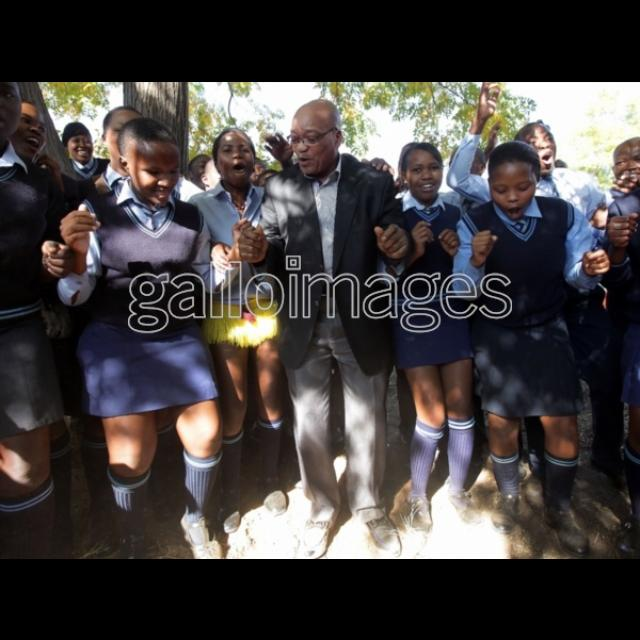head: (118, 116, 182, 208), (486, 139, 544, 223), (290, 98, 344, 176), (2, 98, 50, 166), (102, 104, 150, 168), (515, 119, 561, 178), (402, 142, 446, 202), (214, 128, 258, 188), (0, 80, 30, 142), (449, 143, 488, 181), (63, 124, 95, 162)
person: (445, 80, 623, 478), (66, 98, 196, 508), (182, 120, 294, 536), (374, 138, 490, 536), (0, 90, 90, 518), (421, 134, 514, 443), (44, 115, 130, 398)
